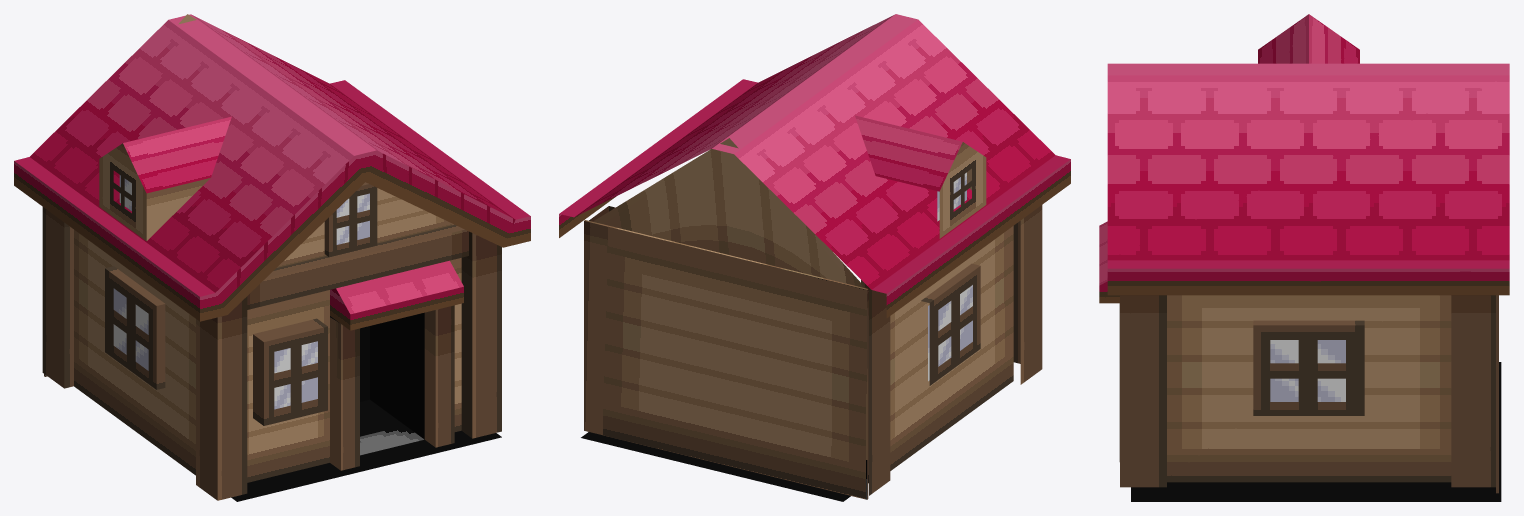
The picture shows the model from 3 angles, left to right: view 1: azimuth 30°, elevation 25°; view 2: azimuth 150°, elevation 25°; view 3: azimuth 270°, elevation 25°; orthographic projection. The views are drawn at different scales.
Visible parts, largest first — view 1: MistraltonCityHouse; view 2: MistraltonCityHouse, Cube_Cube.001, Cone; view 3: MistraltonCityHouse, Cube_Cube.001.
Boxes of the visible parts, box(x1,y1,x2,y2) form: MistraltonCityHouse: box(14, 14, 530, 501); MistraltonCityHouse: box(559, 14, 1070, 501); Cube_Cube.001: box(584, 220, 868, 499); Cone: box(593, 138, 868, 291); MistraltonCityHouse: box(1099, 14, 1509, 501); Cube_Cube.001: box(1496, 295, 1498, 493).
Bounding box in the file's own units: 69.84 × 67.81 × 69.36.
6 materials, 6 textured.
